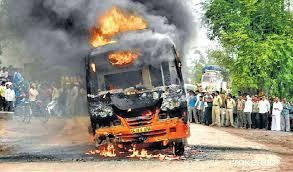fire: (88, 6, 146, 52)
